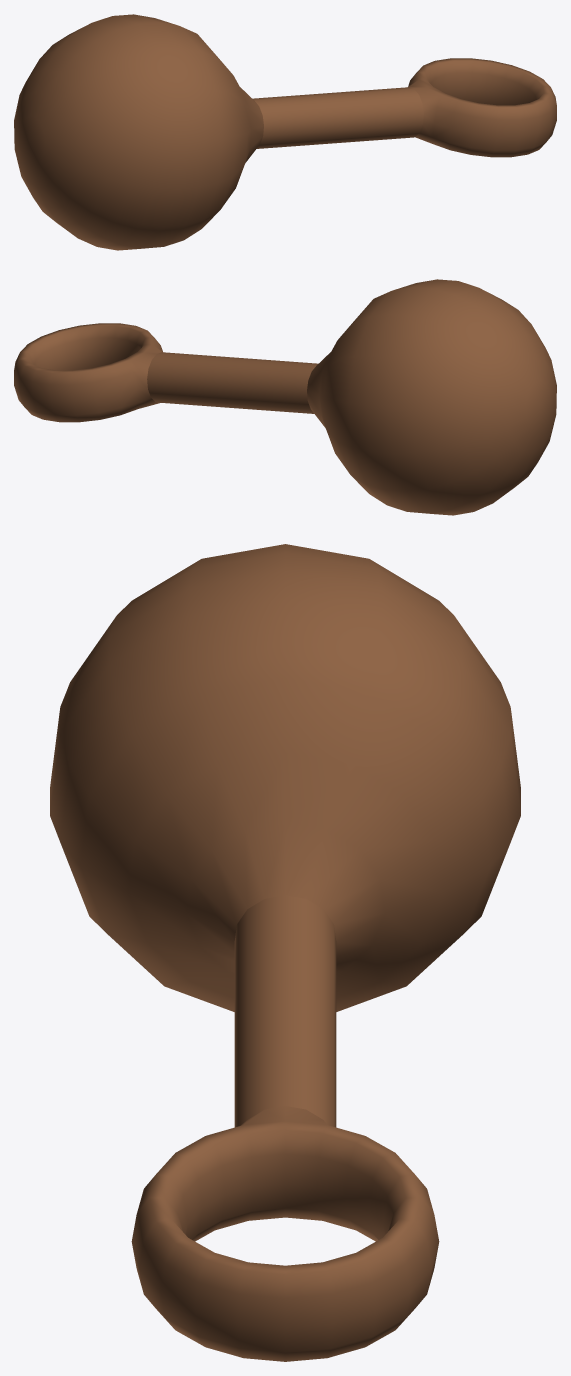
The model's file is toy_low.fbx.
3 views of the same model, one above another, from view 1: azimuth 30°, elevation 25°; view 2: azimuth 150°, elevation 25°; view 3: azimuth 270°, elevation 25° (orthographic). The views are drawn at different scales.
Visible parts, largest first — view 1: toy_lod0; view 2: toy_lod0; view 3: toy_lod0.
Boxes of the visible parts, bbox=[...] form: toy_lod0: bbox=[14, 14, 556, 250]; toy_lod0: bbox=[14, 279, 556, 515]; toy_lod0: bbox=[50, 544, 520, 1361].
Bounding box in the file's own units: 94.18 × 37.04 × 37.09.
